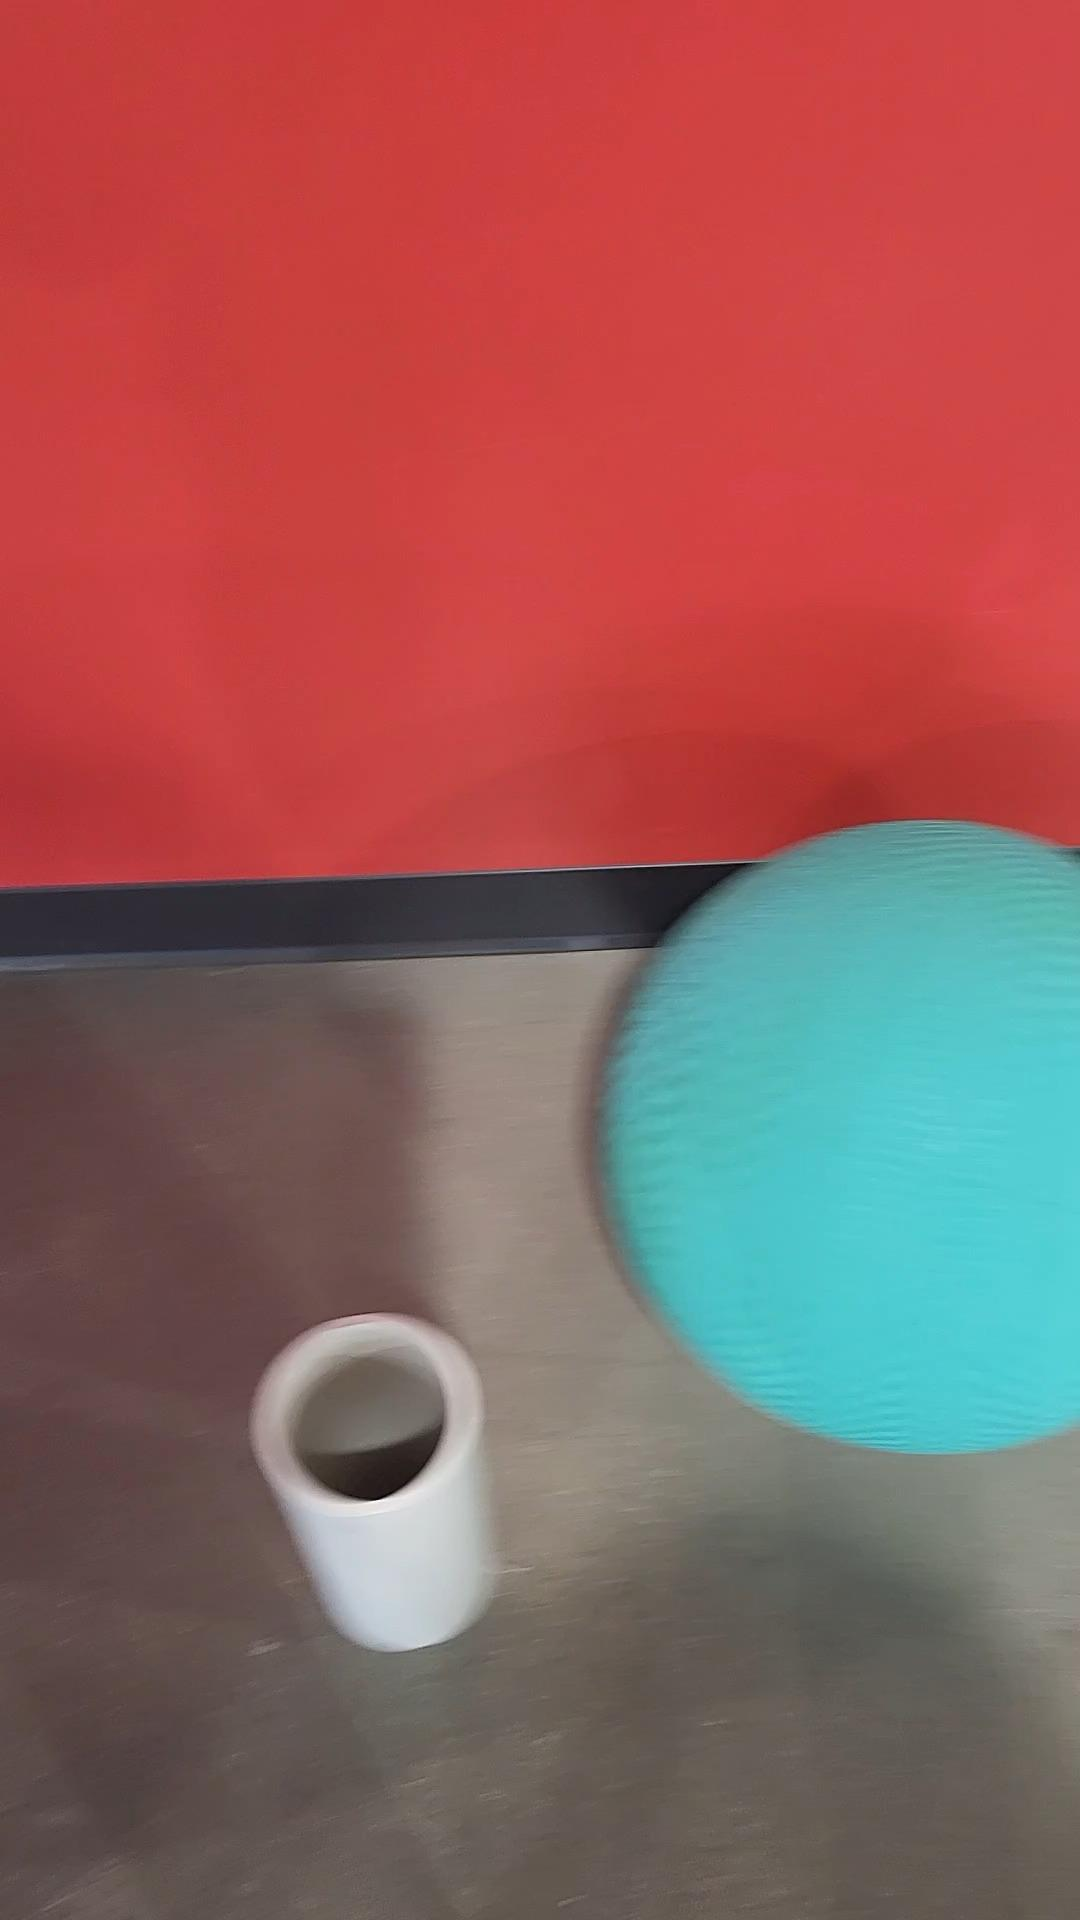algae: (585, 818, 1079, 1456)
coral: (248, 1311, 506, 1655)
